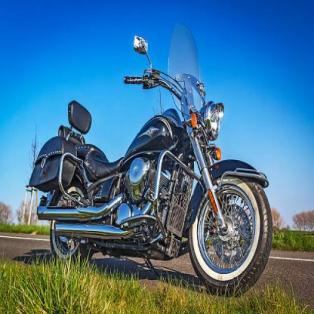Motocicleta: (27, 27, 274, 300)
